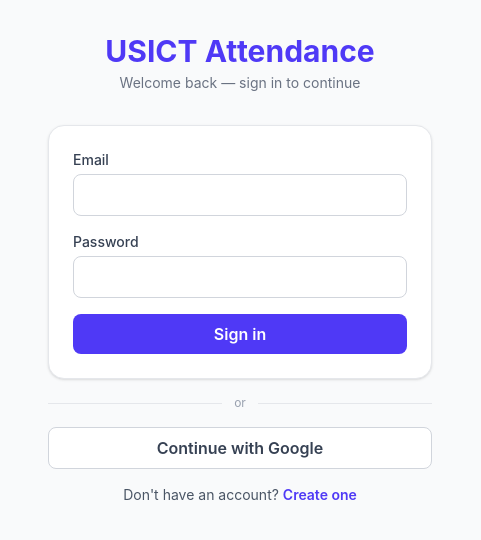
Test: App auth flow › new user signs up, onboard, and profile is written to users/{uid}
Expected: the button "Sign in" is shown, top-left (73, 314), bottom-right (407, 354)
Click the button "Create one": {"x": 320, "y": 495} top-left (283, 485), bottom-right (357, 505)
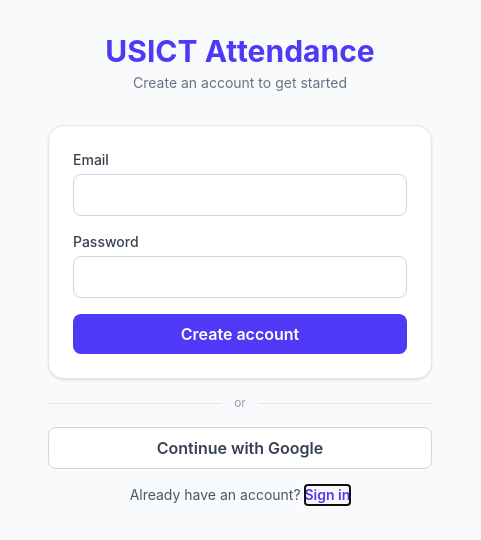
In the field labelled "Email": {"x": 240, "y": 195} top-left (73, 174), bottom-right (407, 216), type "new@example.com"
In the password field labelled "Password": {"x": 240, "y": 277} top-left (73, 256), bottom-right (407, 298), type "secret123"
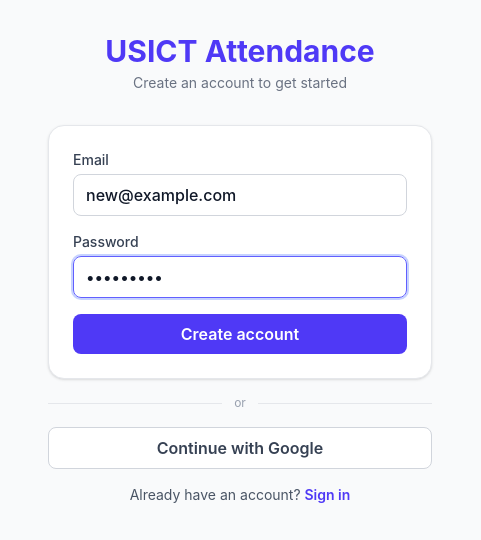
Click the button "Create account": {"x": 240, "y": 334} top-left (73, 314), bottom-right (407, 354)
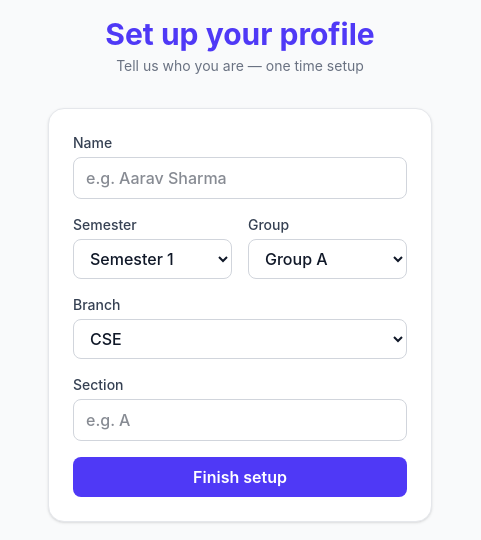
Now the heading "Set up your profile" is shown, box top-left (105, 16), bottom-right (375, 52)
In the field labelled "Name": {"x": 240, "y": 178} top-left (73, 157), bottom-right (407, 199), type "Aarav Sharma"
In the field labelled "Section": {"x": 240, "y": 420} top-left (73, 399), bottom-right (407, 441), type "A"
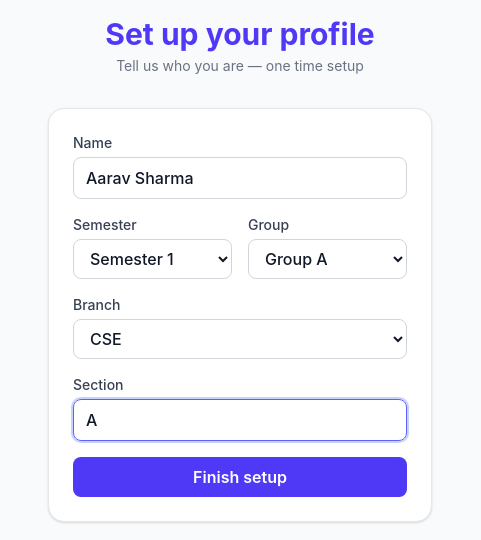
Select "CSE-AI" in the dropdown labelled "Branch": {"x": 240, "y": 339} top-left (73, 319), bottom-right (407, 359)
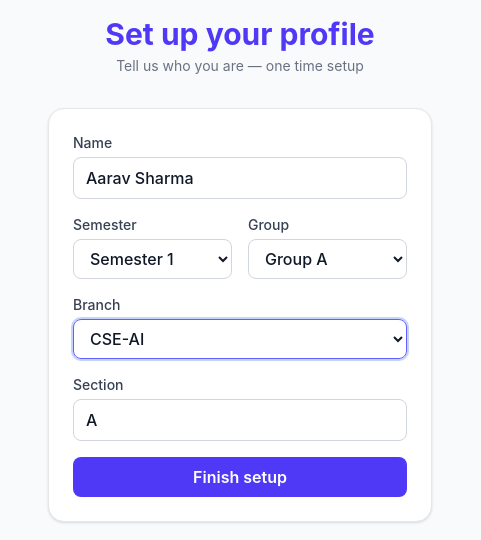
Click the button "Finish setup": {"x": 240, "y": 477} top-left (73, 457), bottom-right (407, 497)
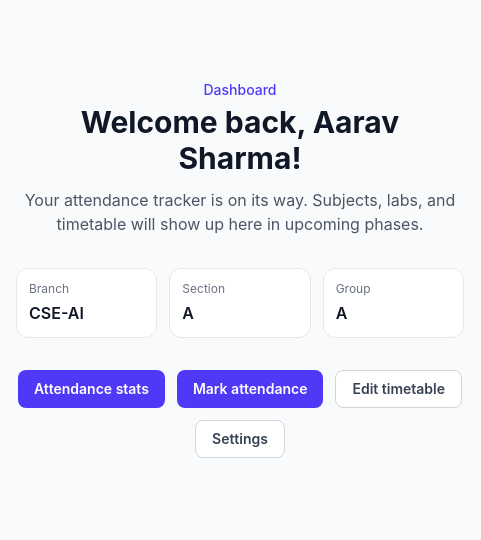
Now the heading "Welcome back, Aarav Sharma!" is shown, box top-left (81, 104), bottom-right (399, 176)
